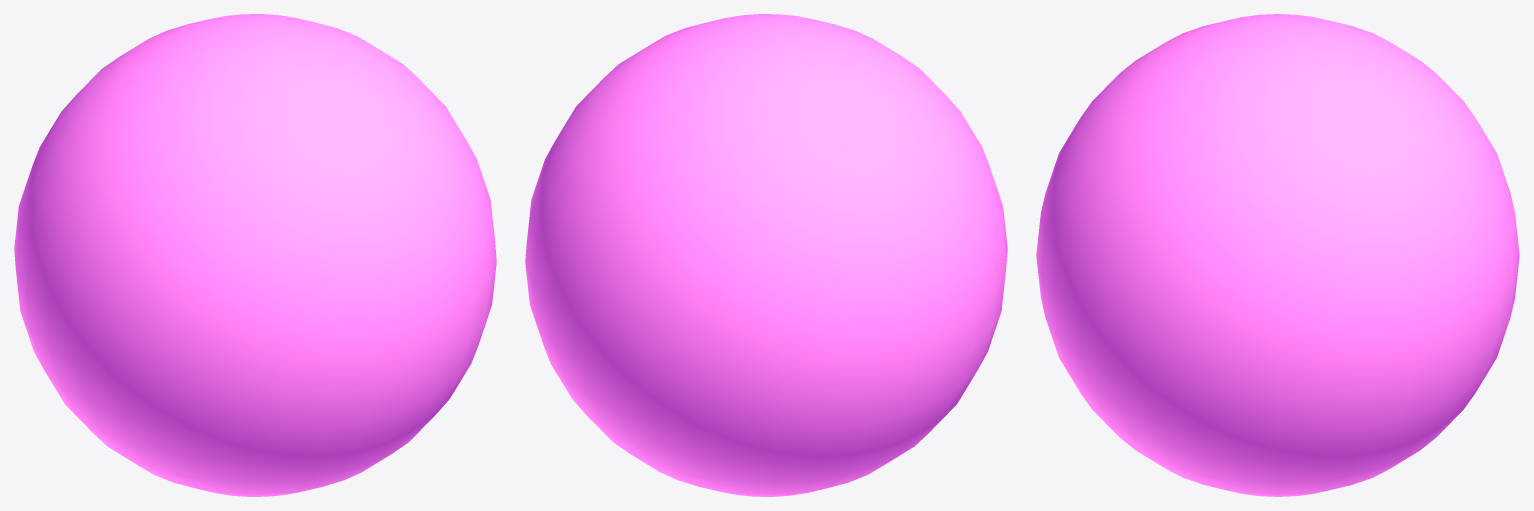
File: EYE.fbx
3 renders of one model, left to right at view 1: azimuth 30°, elevation 25°; view 2: azimuth 150°, elevation 25°; view 3: azimuth 270°, elevation 25°, orthographic.
Visible parts, largest first — view 1: Sphere; view 2: Sphere; view 3: Sphere.
Part boxes in pixels (x1,y1,x2,y2): Sphere: [14, 14, 496, 496]; Sphere: [525, 14, 1007, 496]; Sphere: [1036, 14, 1519, 496].
Size of the model in its own units: 400 by 400 by 400.
